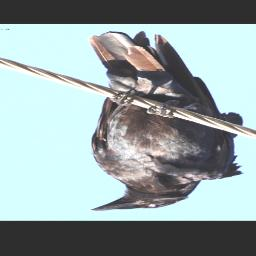Crow: (85, 31, 244, 213)
